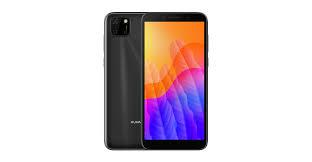Smartphone: (142, 11, 205, 148), (107, 12, 142, 150)
